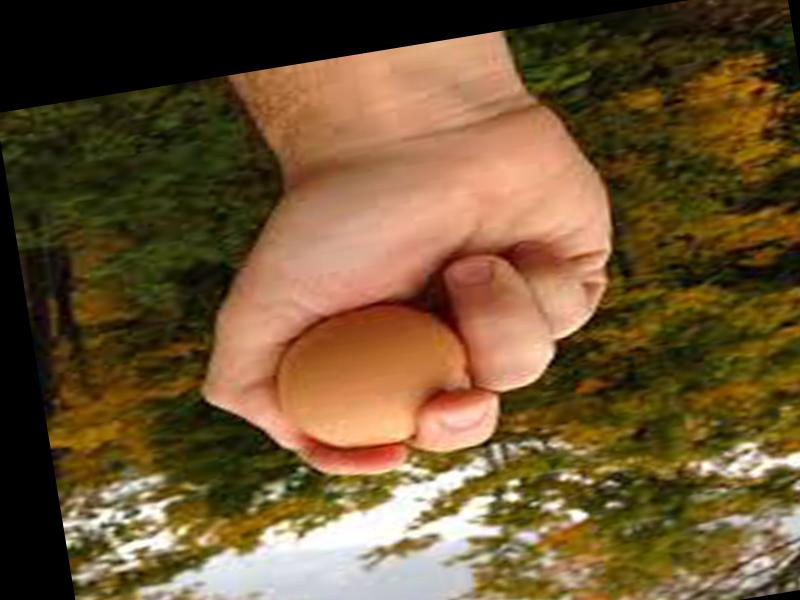Eggs: (268, 292, 486, 459)
